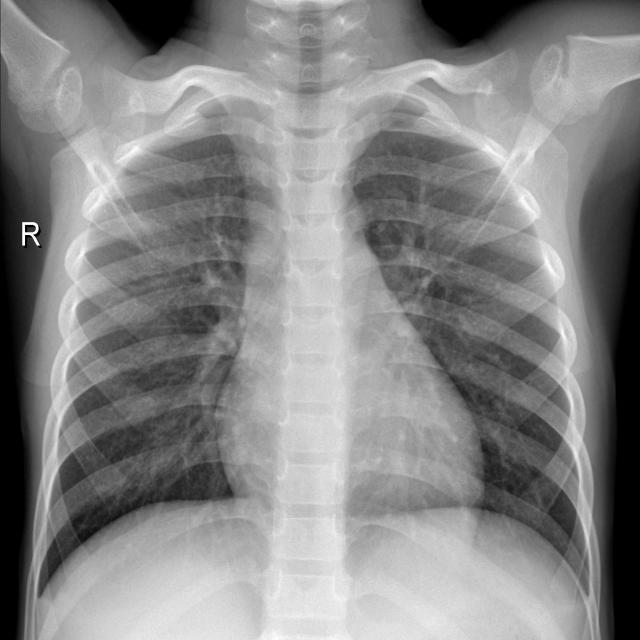no-pneumonia: (352, 131, 599, 600), (35, 134, 274, 594)
